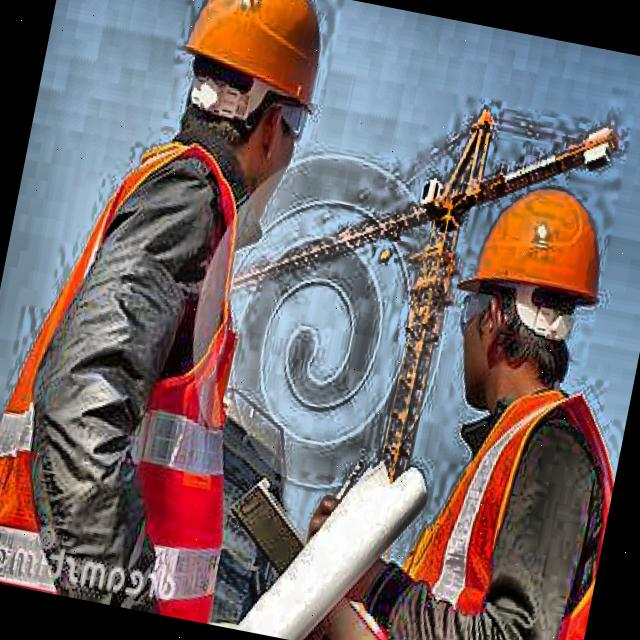helmet: (432, 148, 632, 431), (151, 0, 349, 226)
